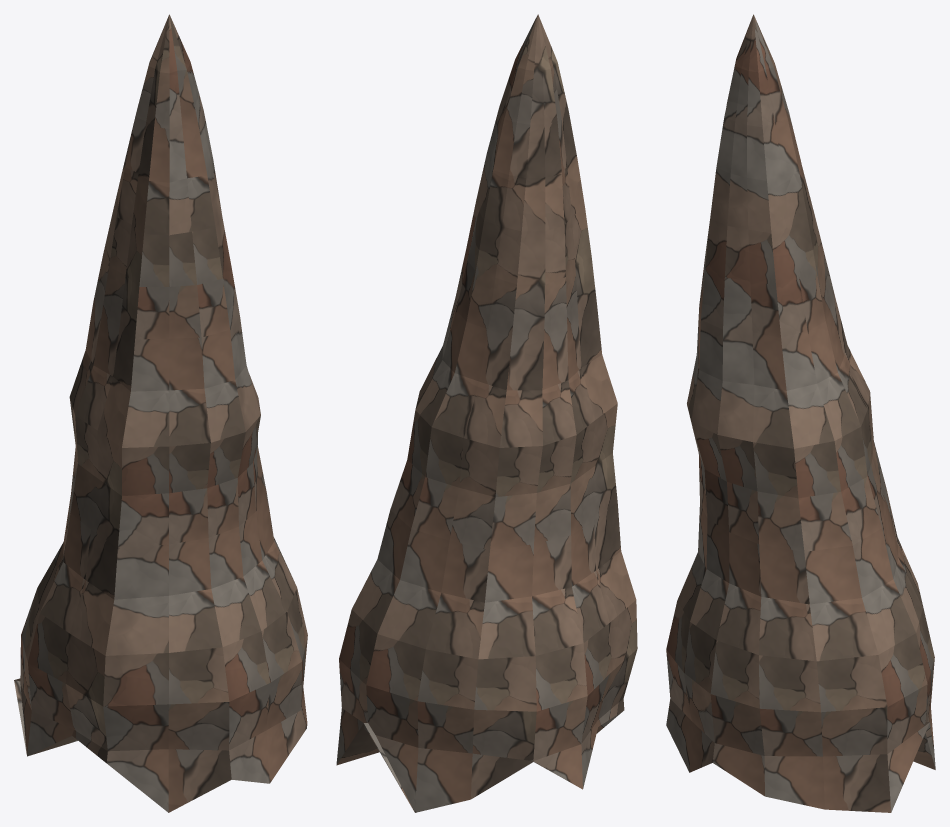
The model's file is CanyonSpireL_Top.gltf.
3 renders of one model, left to right at view 1: azimuth 30°, elevation 25°; view 2: azimuth 150°, elevation 25°; view 3: azimuth 270°, elevation 25°, orthographic. The views are drawn at different scales.
Visible parts, largest first — view 1: CanyonSpireL_Top; view 2: CanyonSpireL_Top; view 3: CanyonSpireL_Top.
Boxes of the visible parts, left/top/right/bottom form: CanyonSpireL_Top: left=14, top=14, right=307, bottom=812; CanyonSpireL_Top: left=336, top=14, right=637, bottom=812; CanyonSpireL_Top: left=666, top=14, right=935, bottom=812.
Bounding box in the file's own units: 10.17 × 30.63 × 10.11.
Materials: 1 (1 with a texture image).
